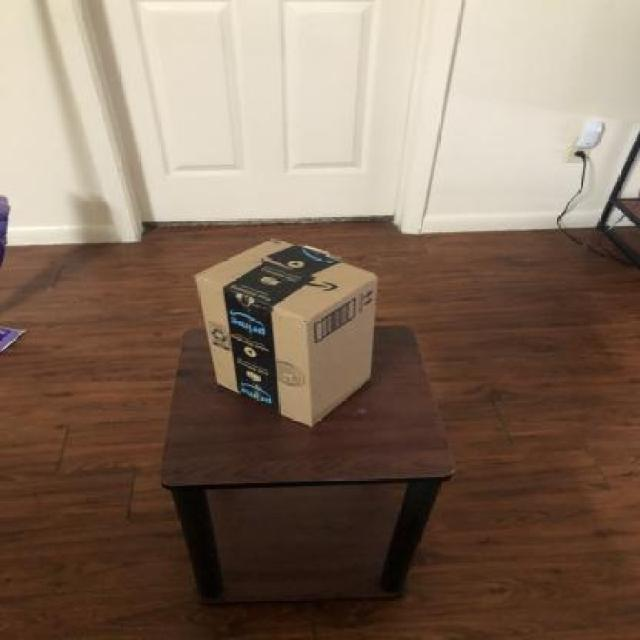cardboxes: (191, 233, 378, 438)
